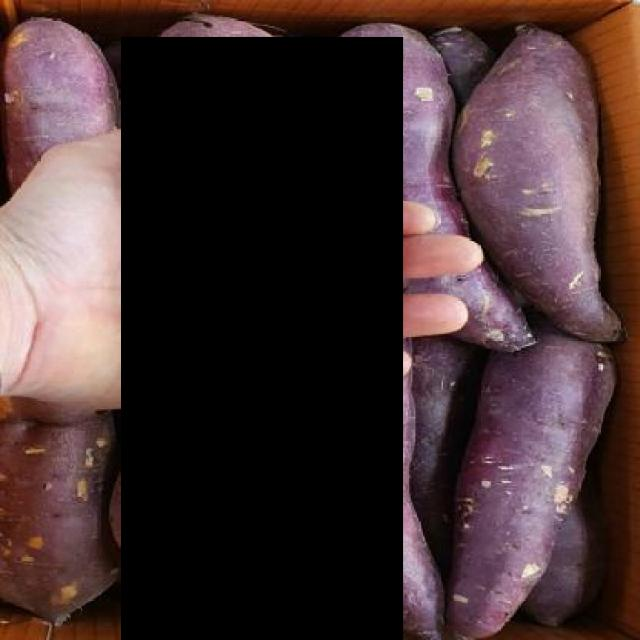Sweet_Potato: (120, 37, 403, 640)
